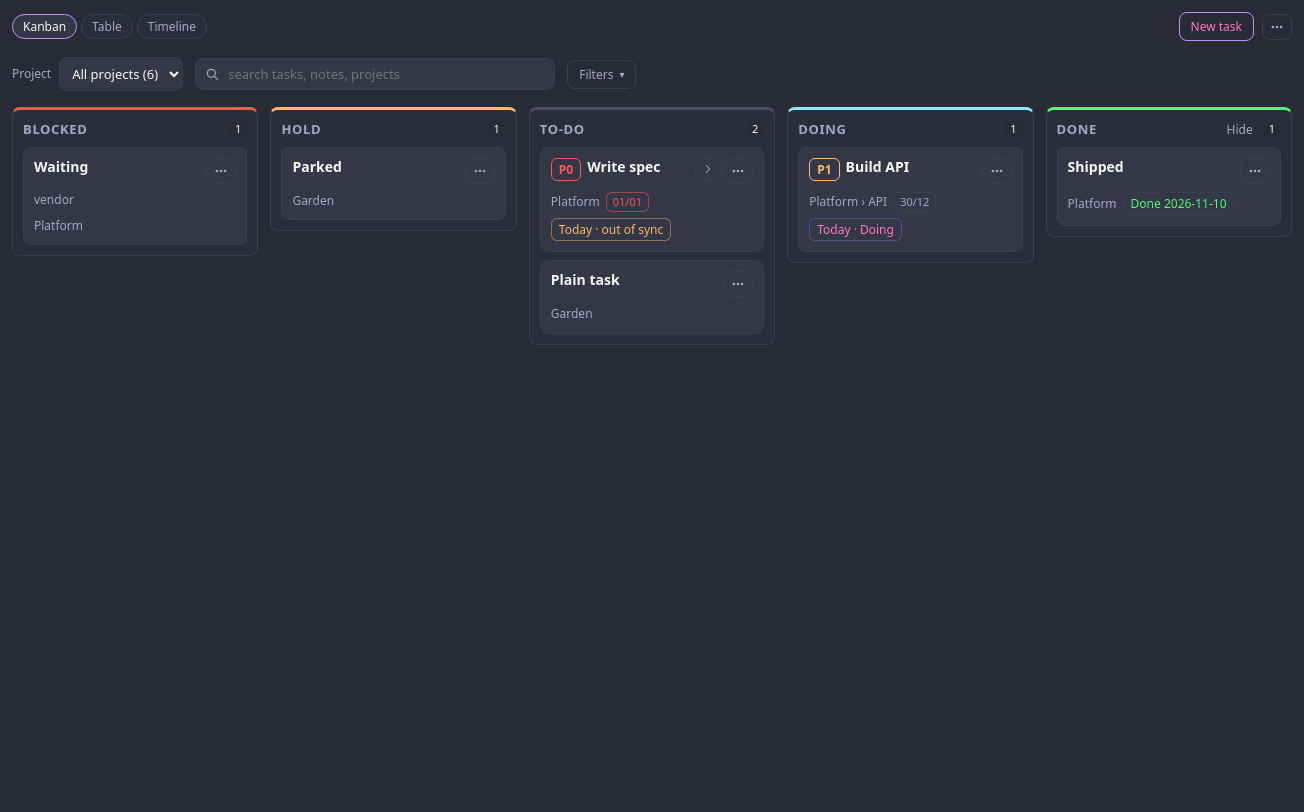
Scenario: BoardView kanban › shows the subtask progress once the card is expanded
Expected: the text "Write spec" is shown, [587,158,660,176]
Click the button named "Show details of Write spec". click: (708, 169)
box: [695,158,721,180]
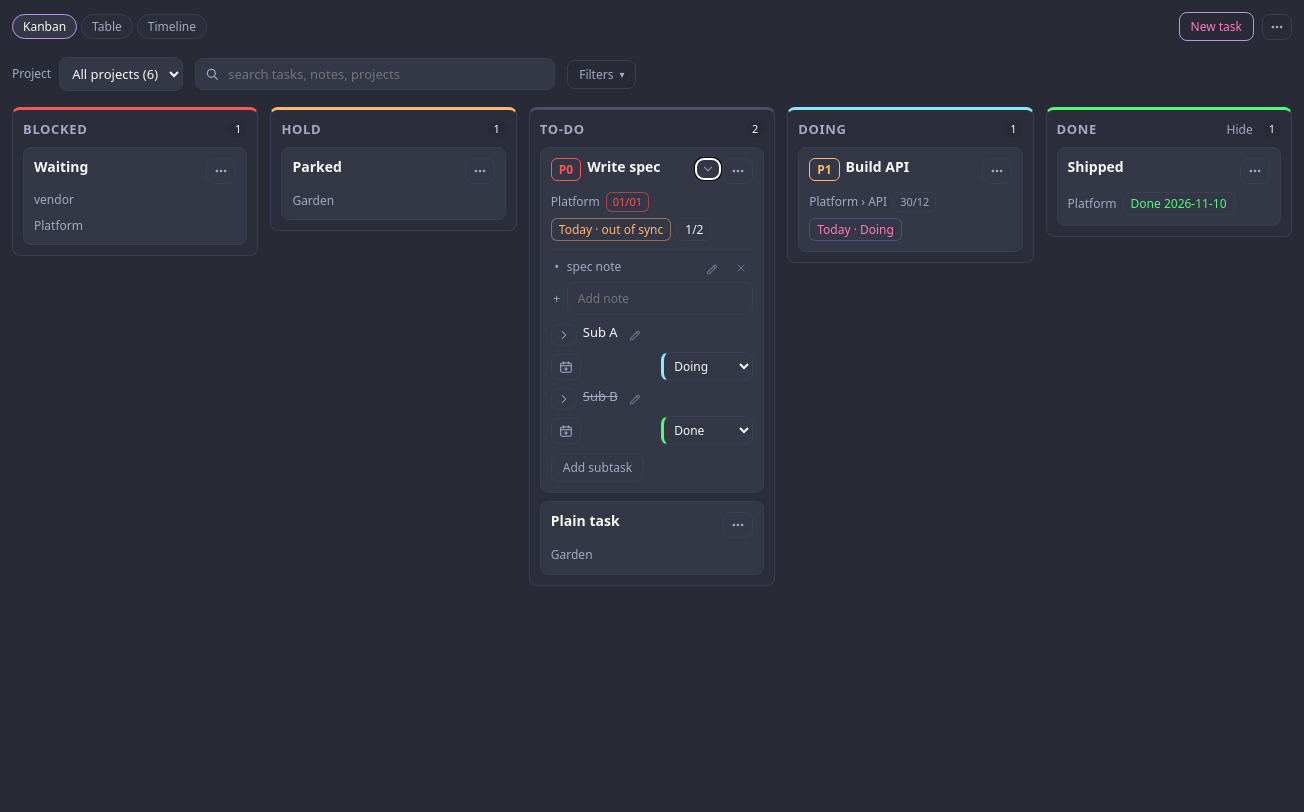
Expected: the text "1/2" is shown, [677,218,712,241]
